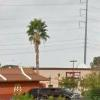Tree: (18, 10, 53, 56)
